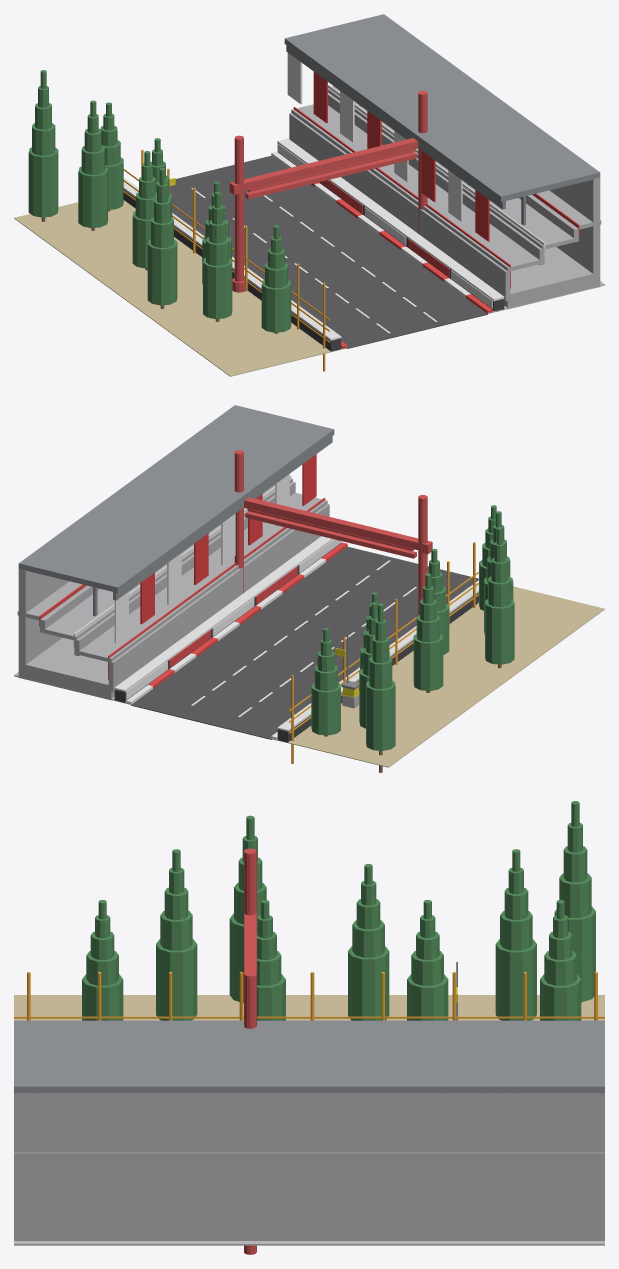
File: env3-1.glb
The picture shows the model from 3 angles, top to bottom: view 1: azimuth 30°, elevation 25°; view 2: azimuth 150°, elevation 25°; view 3: azimuth 270°, elevation 25°; orthographic projection. The views are drawn at different scales.
Parts seen in each view (by area): view 1: env3-1.001; view 2: env3-1.001; view 3: env3-1.001.
Boxes of the visible parts, x1,y1,x2,y2 form: env3-1.001: (14, 14, 604, 376); env3-1.001: (14, 405, 604, 772); env3-1.001: (14, 801, 604, 1254).
Bounding box in the file's own units: 20 × 10.4 × 20.
